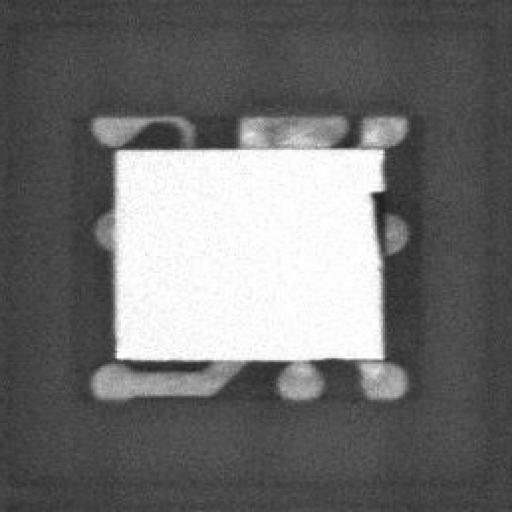DIE_BROKEN: (365, 184, 383, 258)
